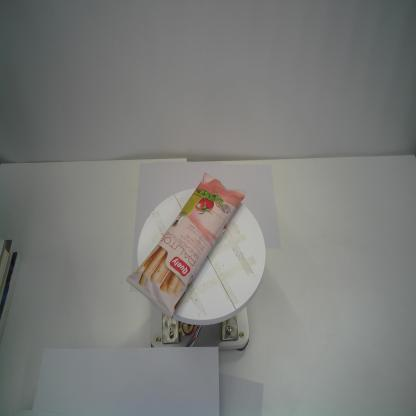Dessert: (125, 169, 246, 322)
